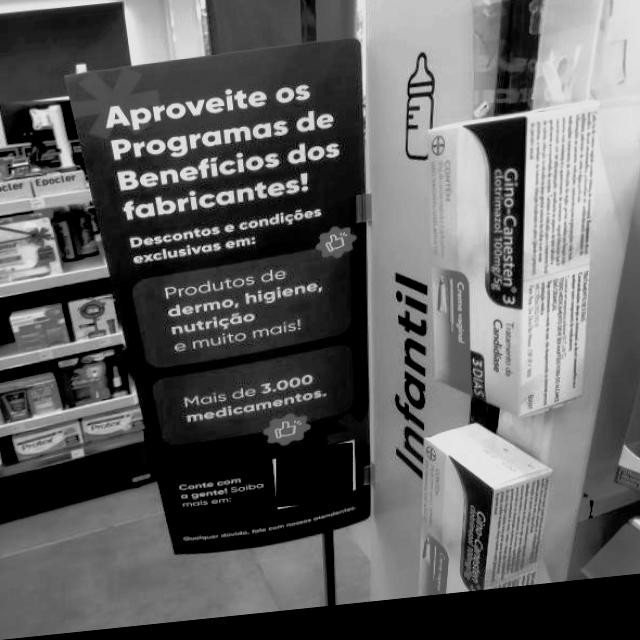qr_code: (276, 450, 352, 513)
